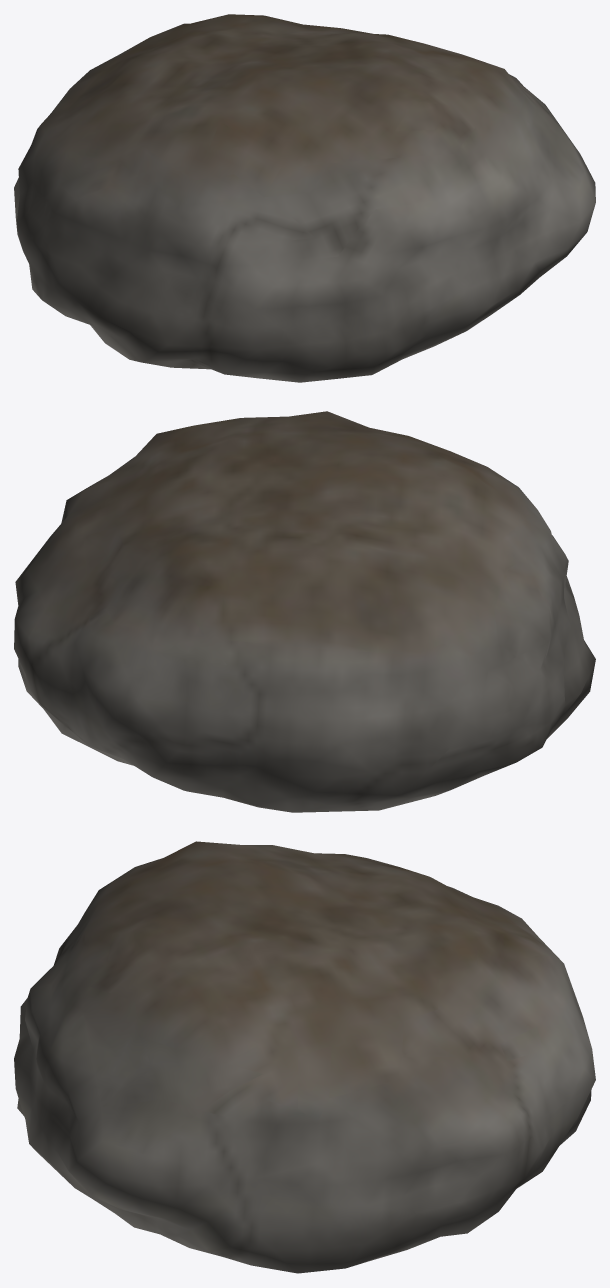
File: SM_rock_boulder_02.fbx
3 views of the same model, one above another, from view 1: azimuth 30°, elevation 25°; view 2: azimuth 150°, elevation 25°; view 3: azimuth 270°, elevation 25° (orthographic). The views are drawn at different scales.
Parts seen in each view (by area): view 1: SM_rock_boulder_02; view 2: SM_rock_boulder_02; view 3: SM_rock_boulder_02.
Part boxes in pixels (box(x1,y1,x2,y2)): SM_rock_boulder_02: box(14, 14, 595, 382); SM_rock_boulder_02: box(14, 411, 595, 812); SM_rock_boulder_02: box(14, 841, 595, 1273).
Size of the model in its own units: 2.15 by 1.03 by 2.01.
